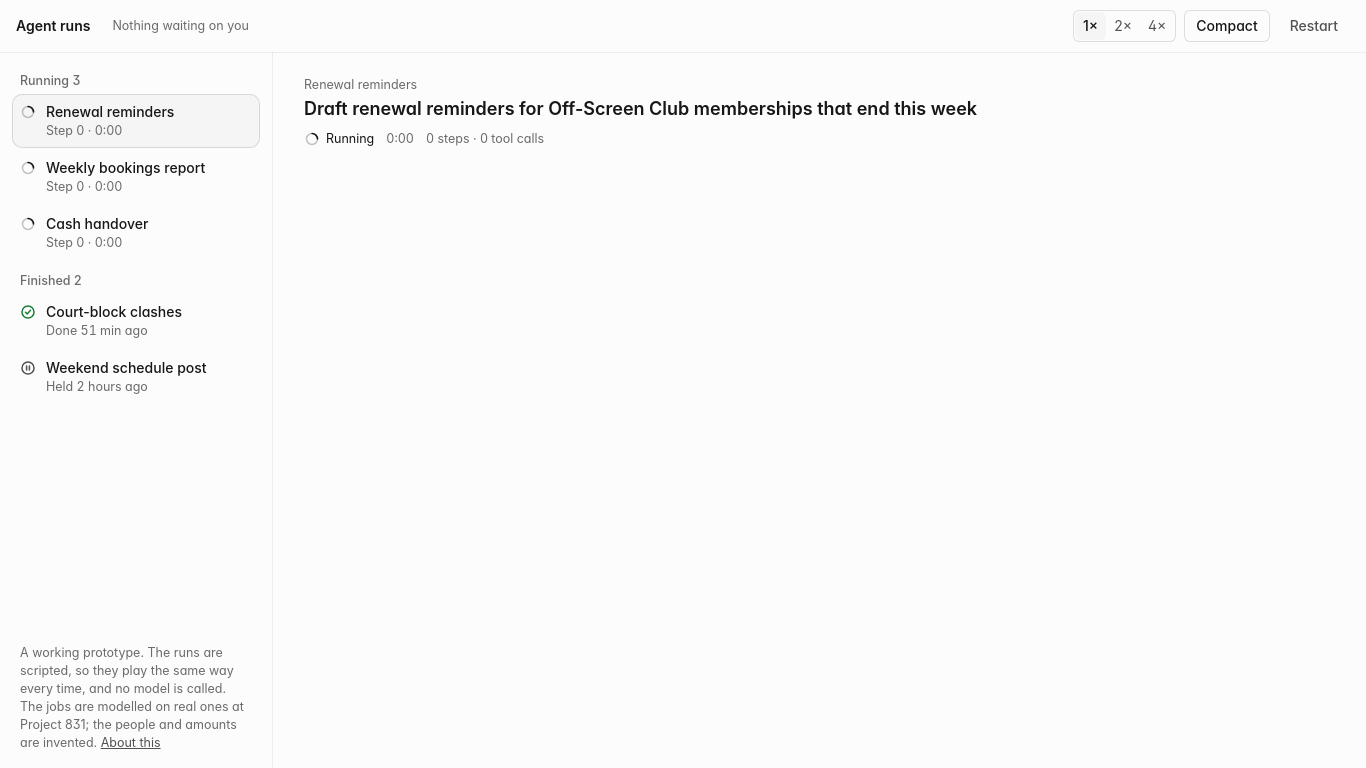
Test: the live view › says a quiet stream is still running
The image size is (1366, 768).
Click the button "Weekly bookings report Step 0 · 0:00" at (136,177), box [12,150,260,204]
Wait 22385 ms
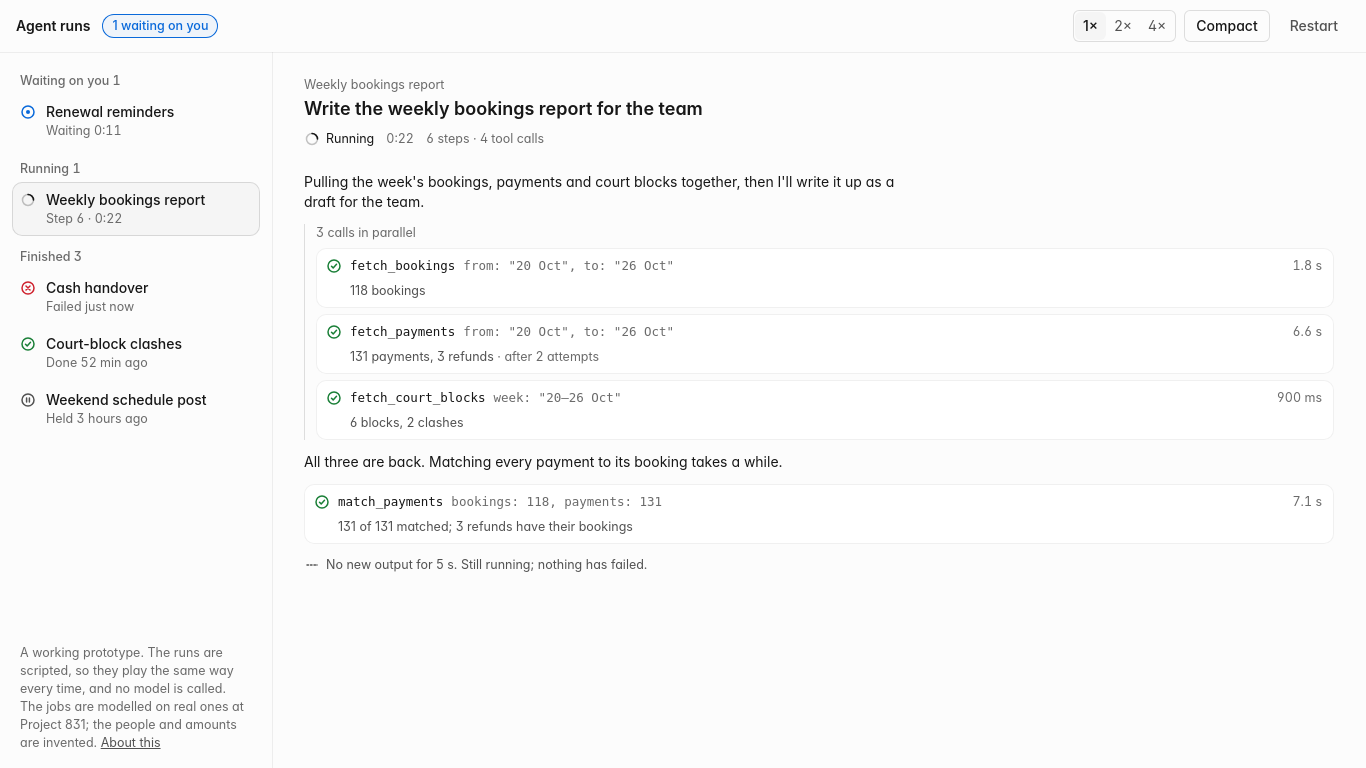
Expected: the text "No new output for 5 s. Still running; nothing has failed." is shown, [304,557,648,573]
